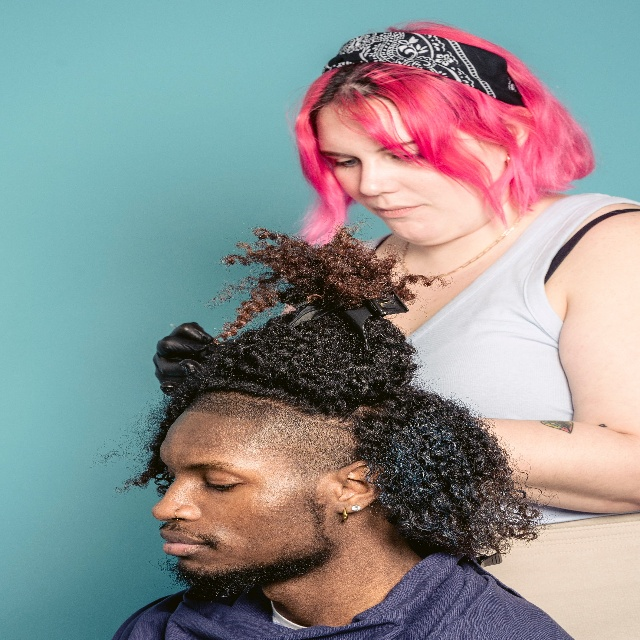Guantes: (152, 319, 213, 395)
